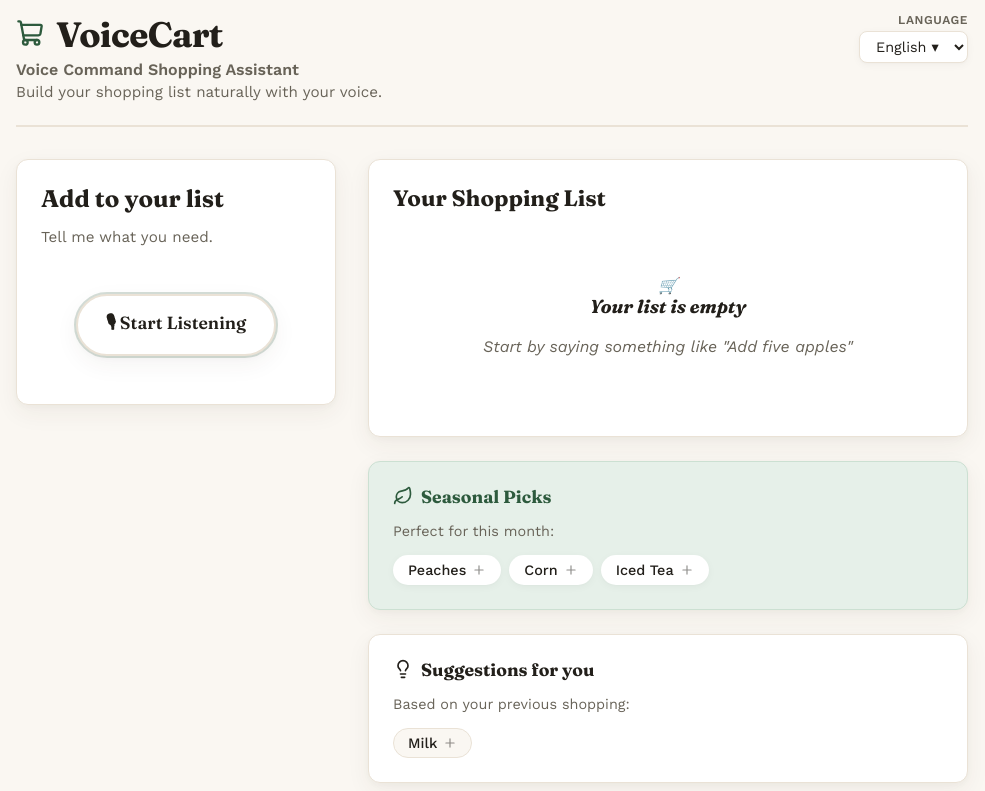
Scenario: Phase 6: Smart Suggestions › clicking Add adds the suggested item and records purchase history
This screenshot has width=985, height=791.
Click the button named "Add milk to list" at (433, 743), box [393, 728, 472, 758]
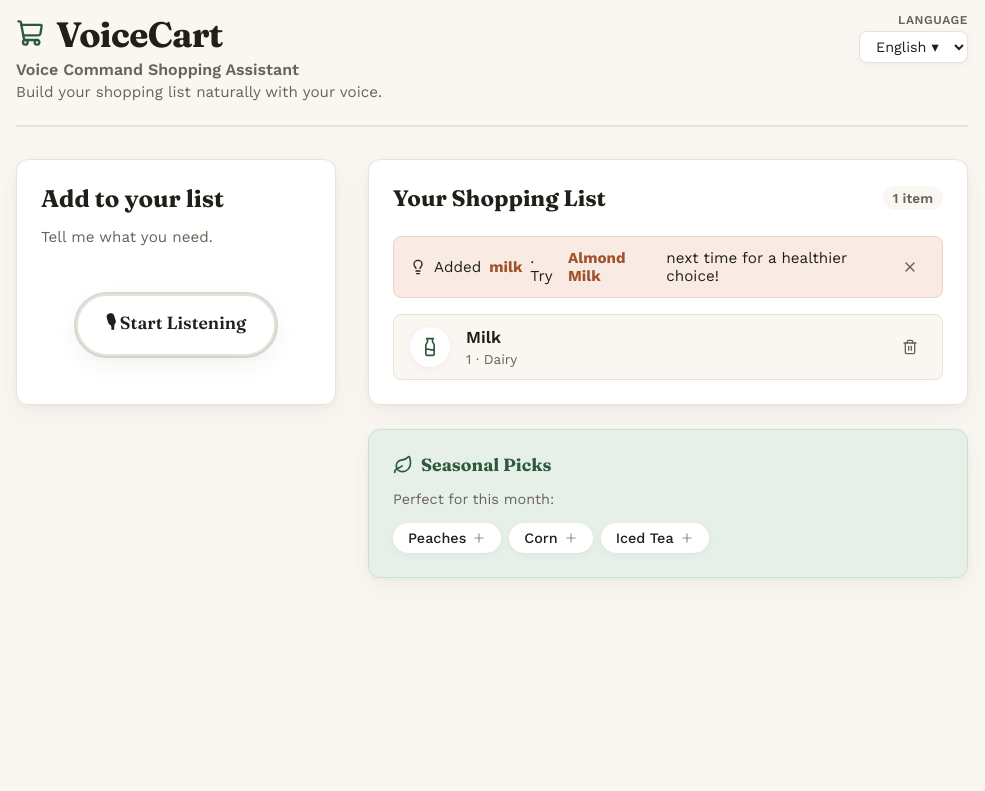
Expected: the text "✨ Suggestions for you" is not shown
Now the text "1 · Dairy" is shown, box [466, 351, 517, 367]
